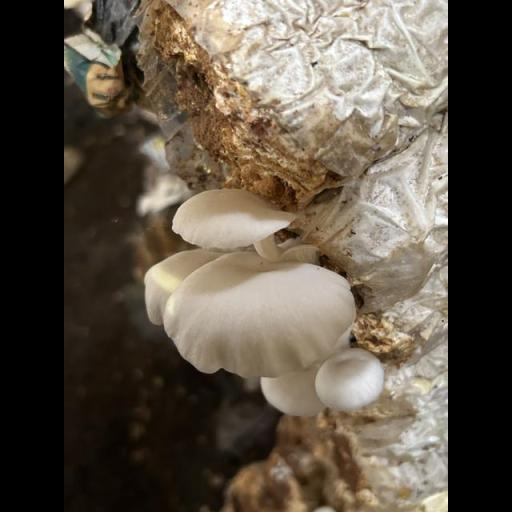White Oyster Mushroom: (144, 189, 380, 412)
